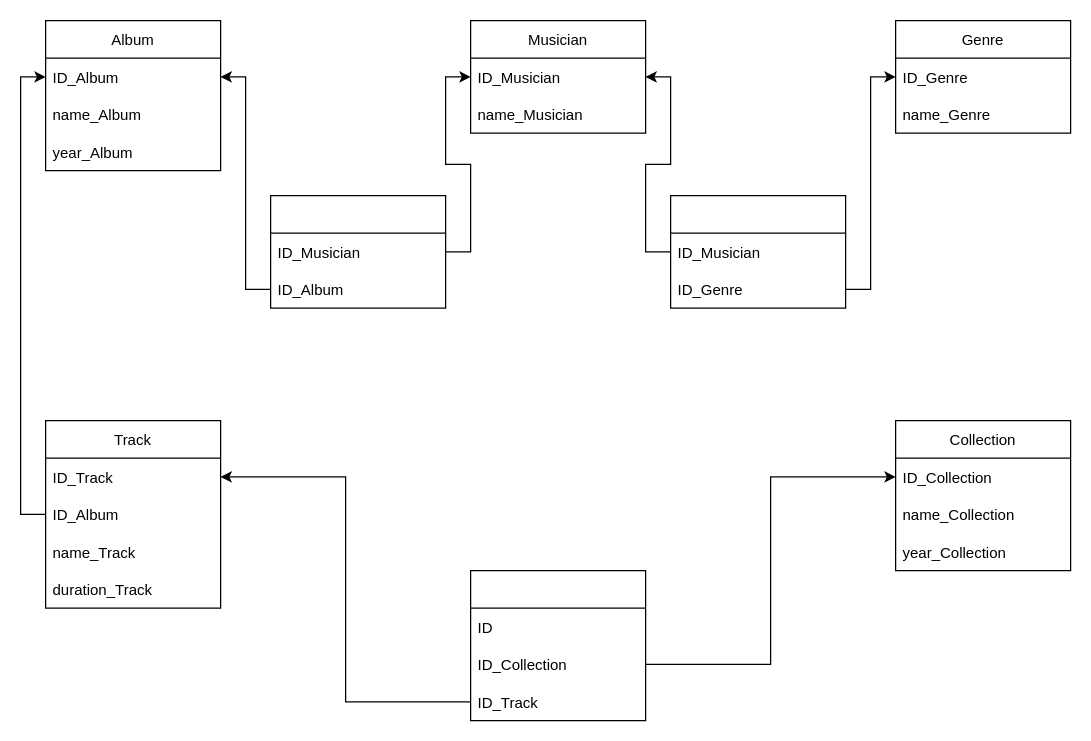
Image size: 1091x741. Some labels were removed from this diagram. Here are the shapes that lost their labels. From the top down, the box of each, then its label:
(269, 194, 446, 308): Musician_Album
(669, 194, 846, 308): Musician_Genre
(469, 569, 646, 721): Collection_Track
